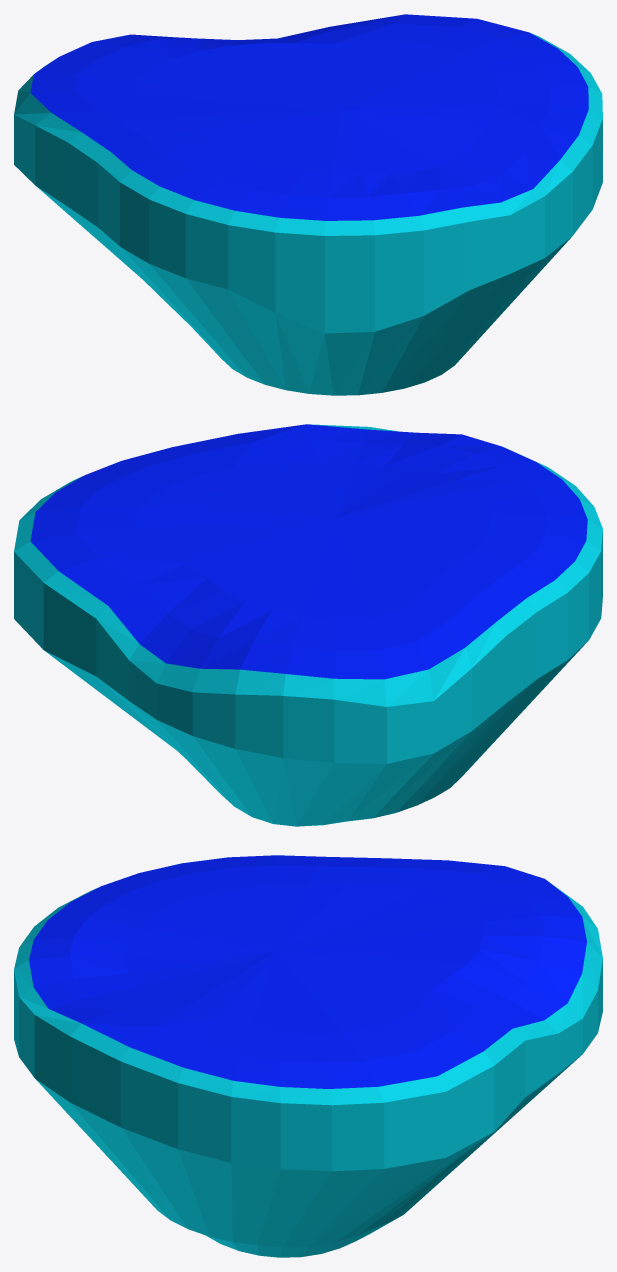
The model's file is OG_island.glb.
The picture shows the model from 3 angles, top to bottom: view 1: azimuth 30°, elevation 25°; view 2: azimuth 150°, elevation 25°; view 3: azimuth 270°, elevation 25°; orthographic projection. The views are drawn at different scales.
Parts seen in each view (by area): view 1: Cylinder.004; view 2: Cylinder.004; view 3: Cylinder.004.
Part boxes in pixels (<box>): Cylinder.004: <box>14,14,602,395</box>; Cylinder.004: <box>14,424,602,826</box>; Cylinder.004: <box>14,855,602,1257</box>.
Bounding box in the file's own units: 2.15 × 1.14 × 2.24.
